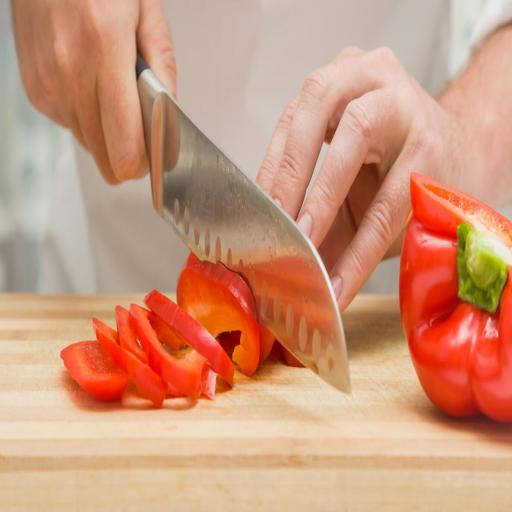knife: (137, 53, 356, 402)
